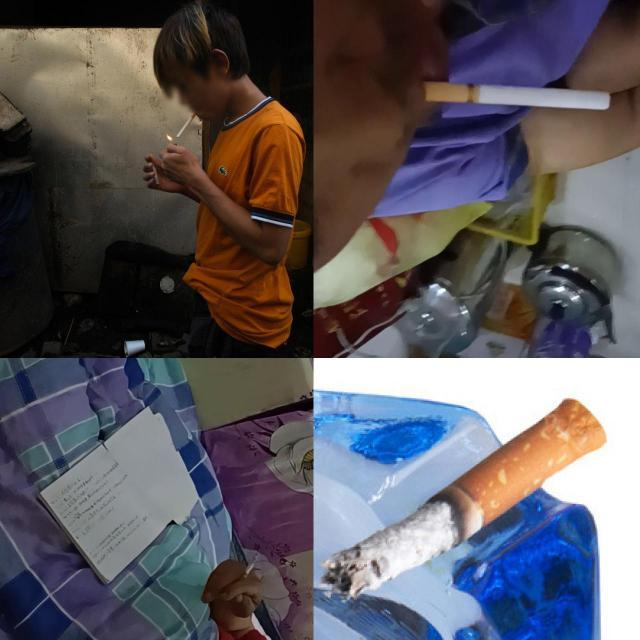smoke: (320, 396, 610, 598), (422, 80, 612, 111), (237, 552, 260, 584), (176, 113, 196, 139)
